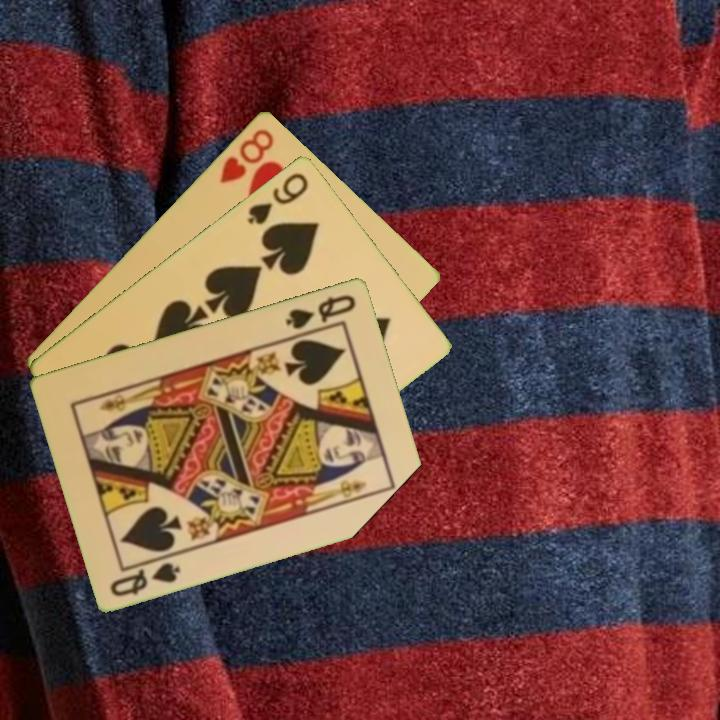8h: (216, 124, 277, 186)
9s: (243, 168, 312, 227)
Qs: (106, 551, 184, 599), (282, 290, 359, 332)
